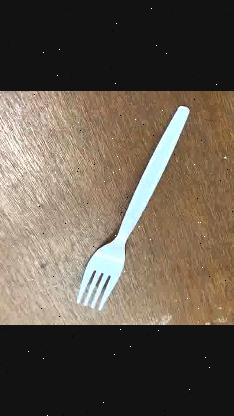Others: (70, 106, 192, 314)
